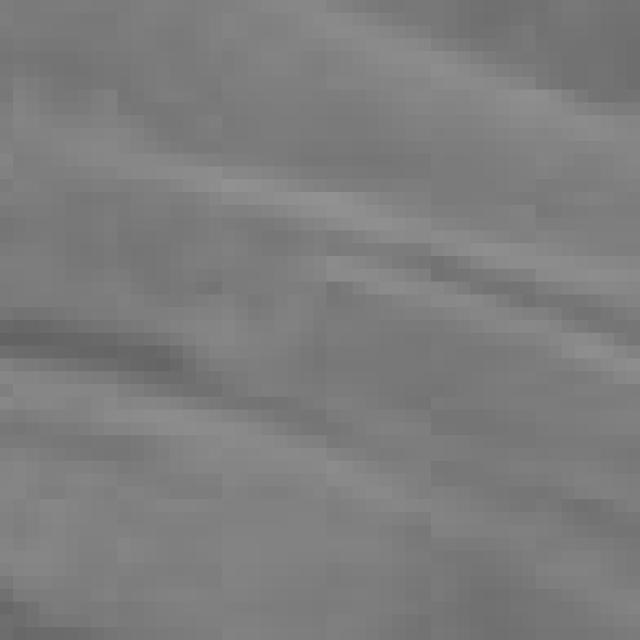fracture: (8, 2, 640, 636)
